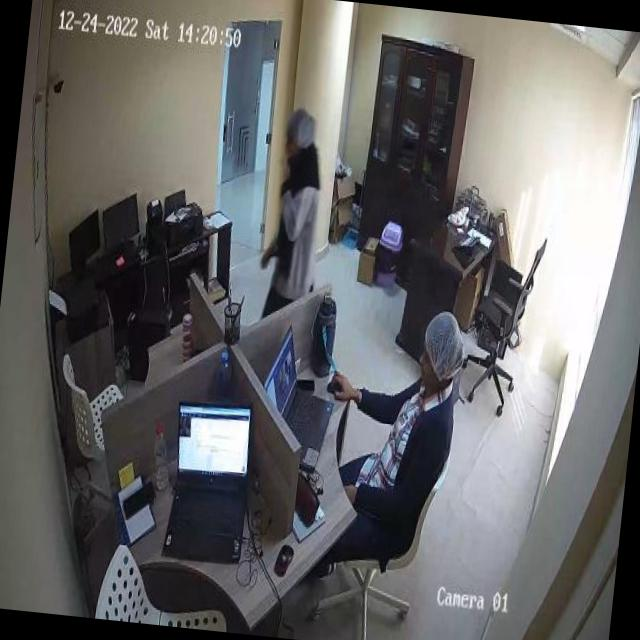hairnet: (424, 312, 468, 380), (286, 107, 316, 151)
